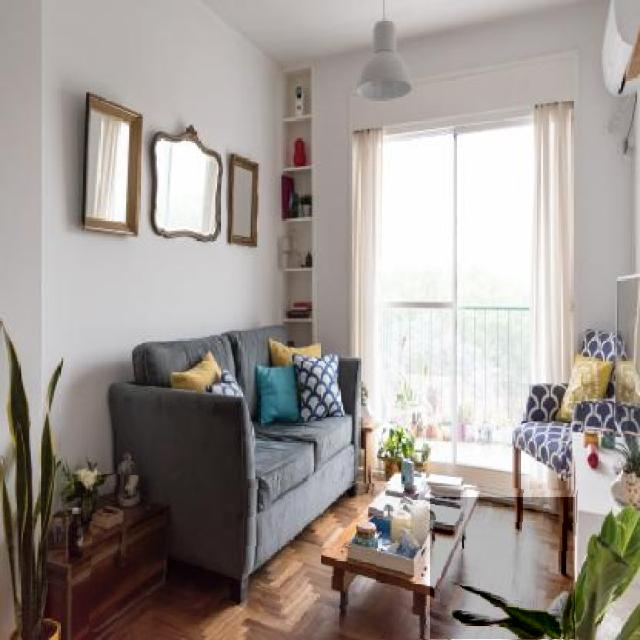floor: (88, 484, 415, 640), (430, 498, 575, 640)
